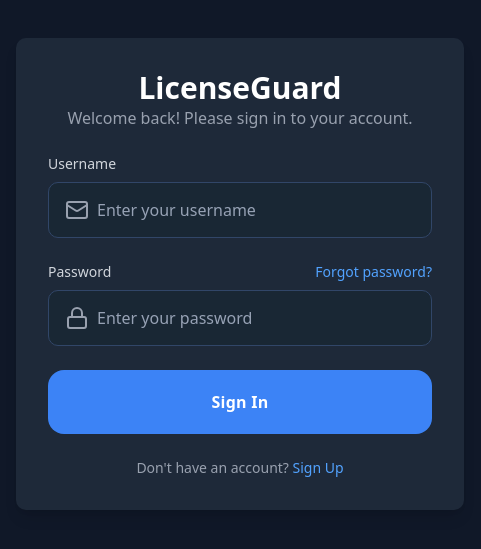
Scenario: LoginPage Component › Empty Fields Validation › should handle empty username field
The image size is (481, 549).
In the password field with placeholder "Enter your password": [260, 318] box [89,291,431,345], type "password123"
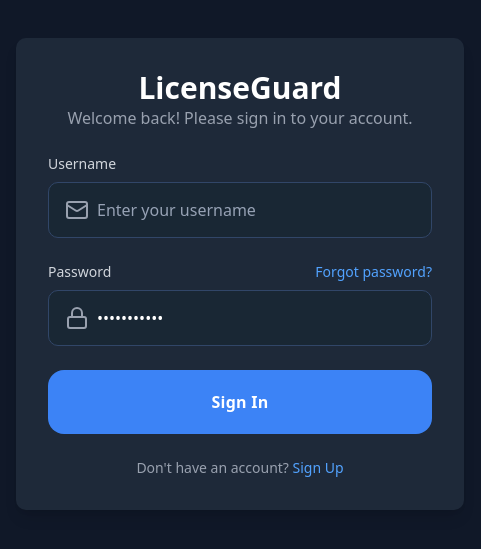
Click the button "Sign In": [240, 402] box [48,370,432,434]
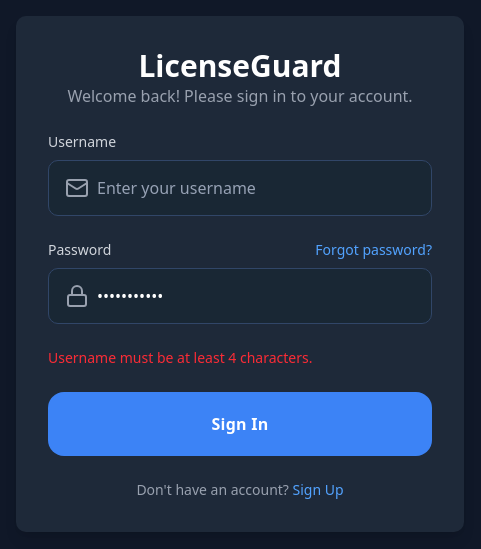
Check: the text "Username must be at least 4 characters." is shown, box [48,348,312,367]
